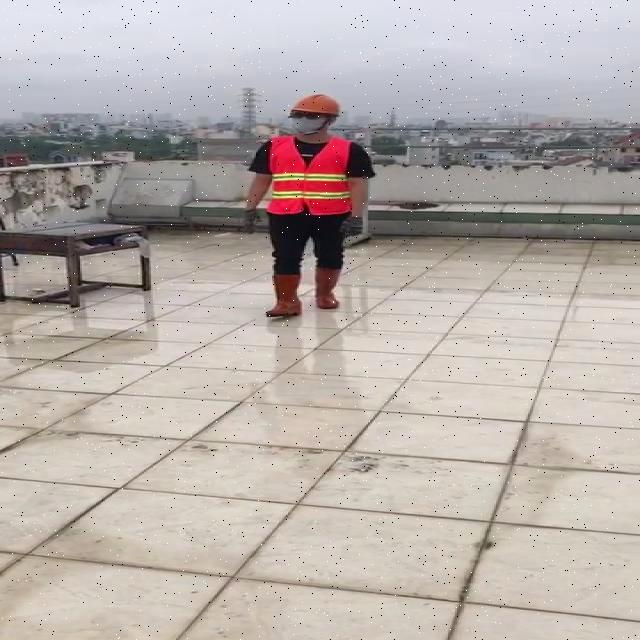Hard_hat: (287, 91, 346, 123)
Vest: (262, 137, 353, 220)
